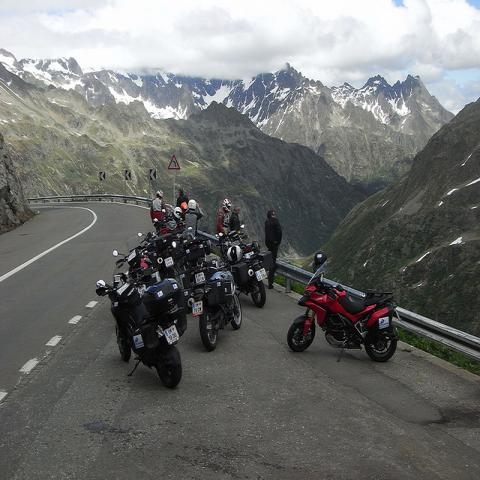motorcycle: (287, 261, 402, 363), (94, 271, 187, 389), (211, 222, 278, 310), (192, 243, 244, 354), (158, 235, 197, 311), (114, 236, 166, 290), (175, 222, 213, 271), (153, 216, 178, 234), (137, 231, 160, 250), (179, 212, 188, 225)
